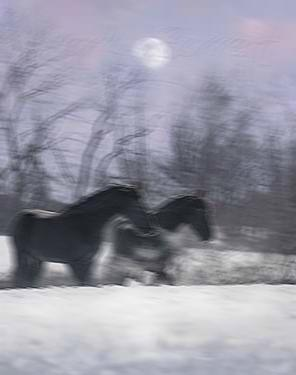horse: (6, 179, 160, 288), (88, 188, 215, 286)
